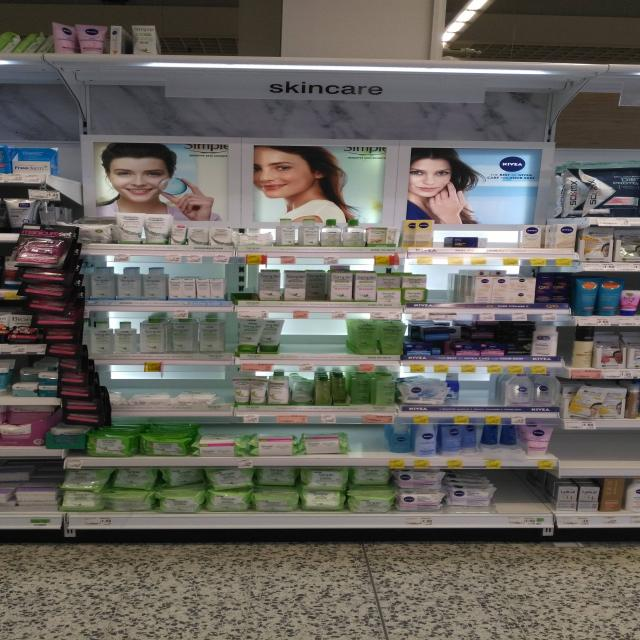empty: (562, 425, 640, 473), (282, 314, 347, 361), (497, 464, 551, 517), (344, 420, 386, 458), (462, 369, 497, 414), (483, 220, 521, 254)
